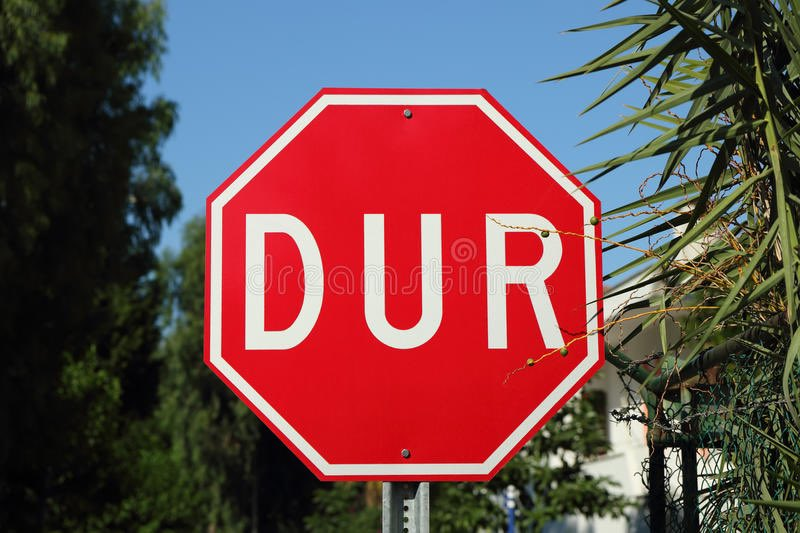dur: (198, 76, 597, 487)
